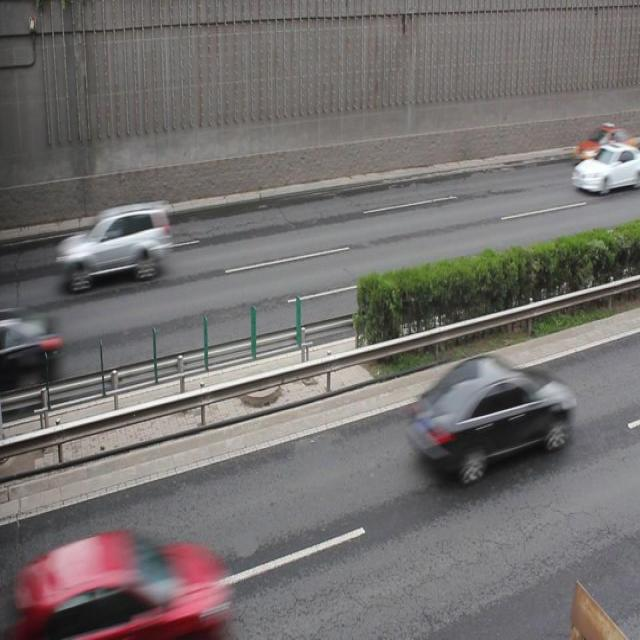car: (14, 535, 224, 640), (410, 352, 572, 479), (57, 204, 172, 288), (1, 304, 61, 386), (571, 143, 640, 197), (575, 122, 640, 162)
